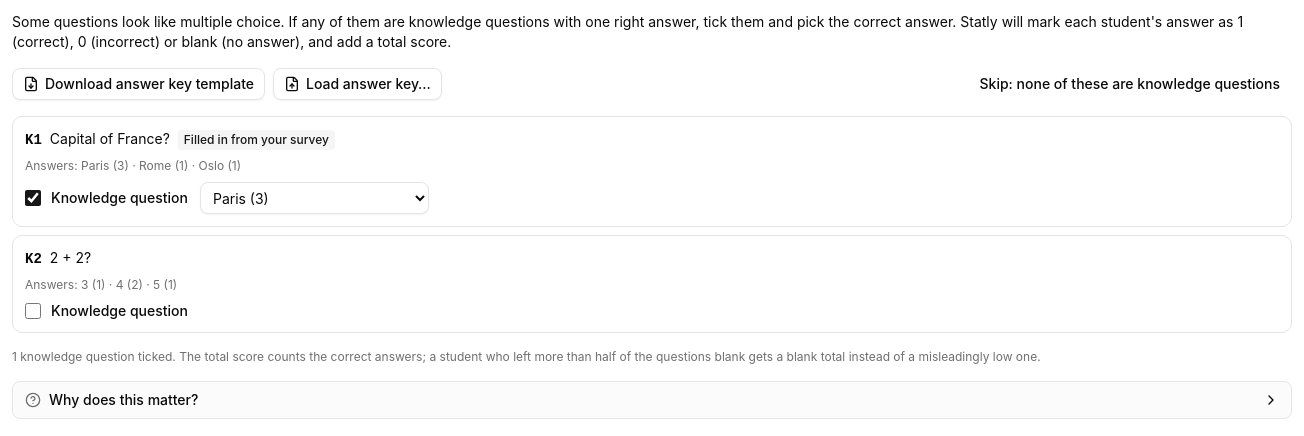
Test: StepKnowledge › Skip unticks everything, so the questions stay survey answers
Click the button with test id "knowledge-skip". click: (1130, 84)
box: [968,68,1292,100]
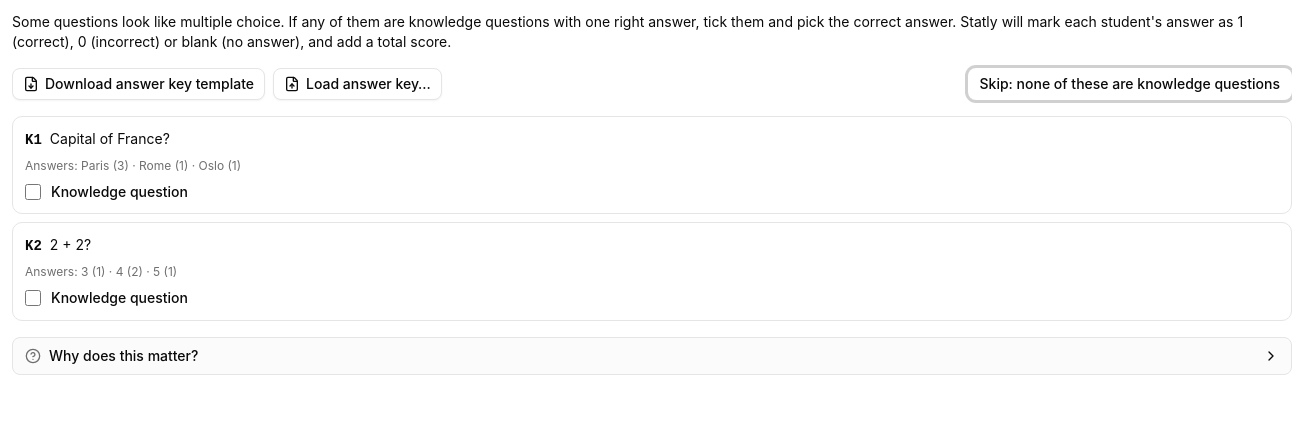
Now the checkbox named "Knowledge question: K1" is not checked, box [25,184,41,200]
